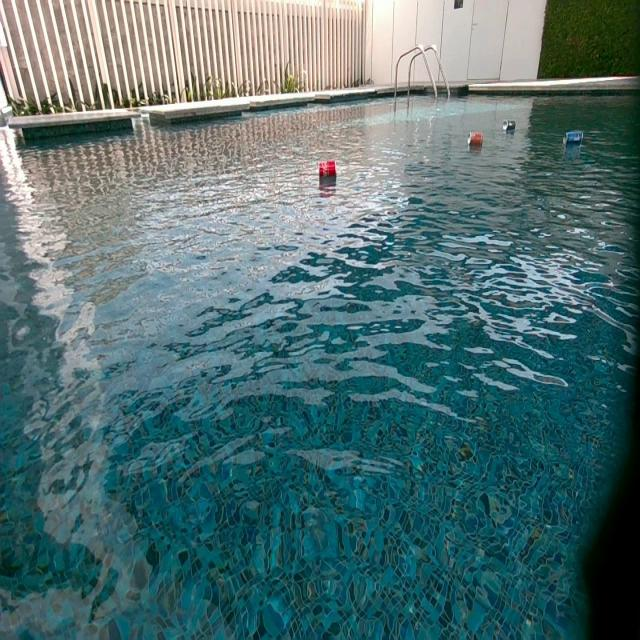Cans: (564, 131, 583, 148), (318, 162, 335, 179), (467, 133, 482, 149), (502, 118, 516, 132)
